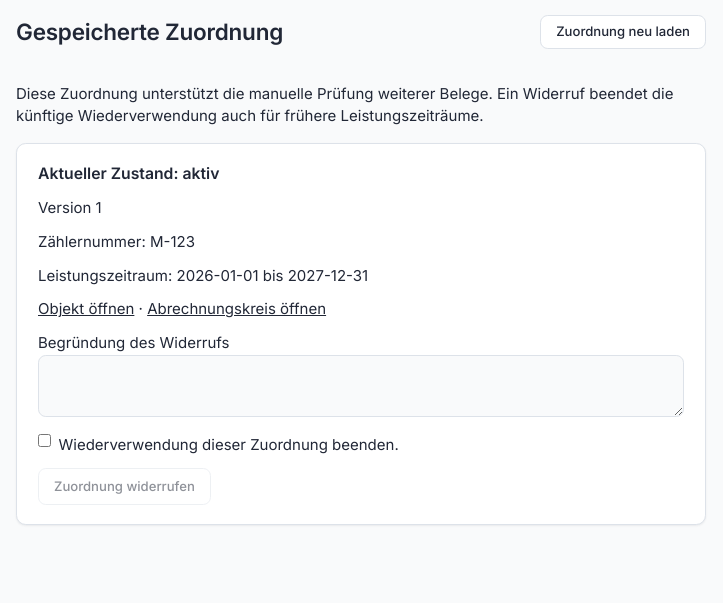
Scenario: keeps unknown revocation pinned after a newer activation and distinguishes receipt from current state
Step 1. Type "Stop future reuse" into the text box labelled "Begründung des Widerrufs" → (361, 386), box [38, 355, 684, 417]
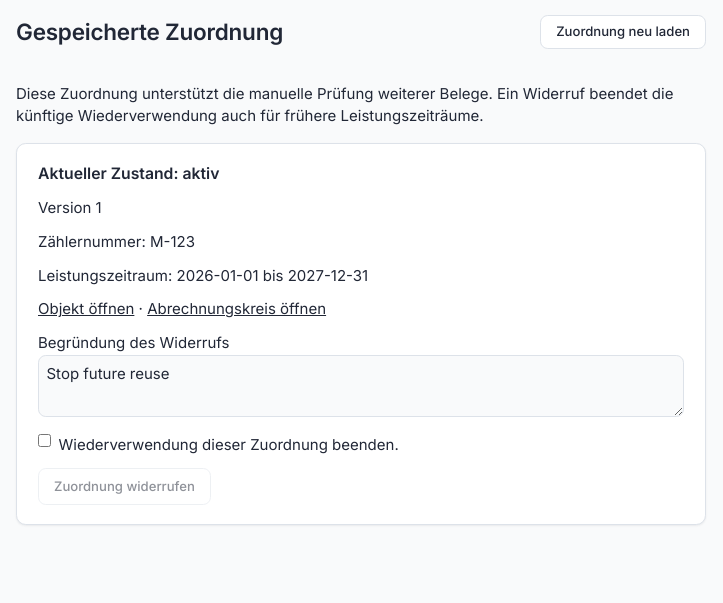
Step 2. Click the checkbox → click(44, 441), box [38, 434, 51, 447]
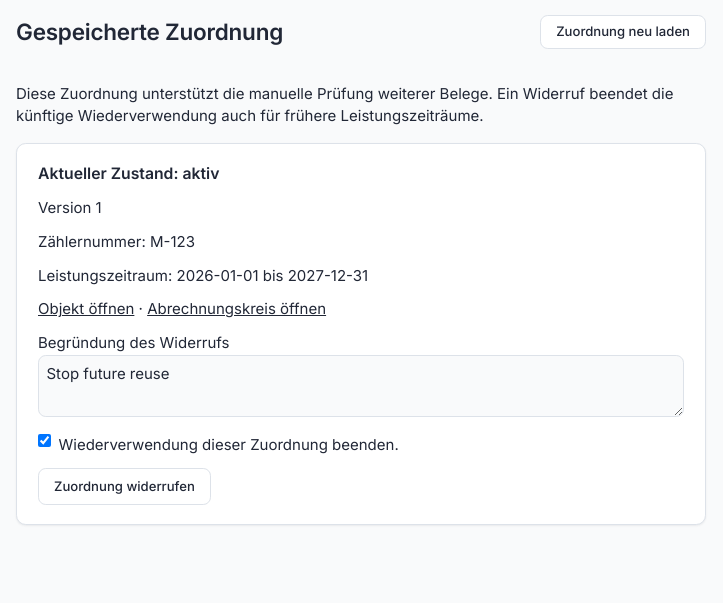
Step 3. Click the button "Zuordnung widerrufen" → click(124, 486), box [38, 468, 211, 505]
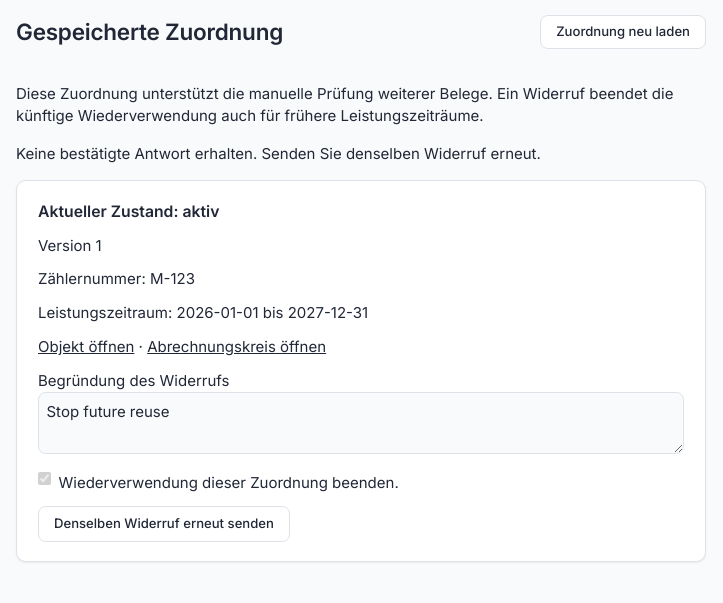
Expected: the text "Keine bestätigte Antwort erhalten. Senden Sie denselben Widerruf erneut." is shown, [16, 144, 541, 162]
Step 4. Click the button "Zuordnung neu laden" → click(623, 32), box [540, 15, 706, 49]
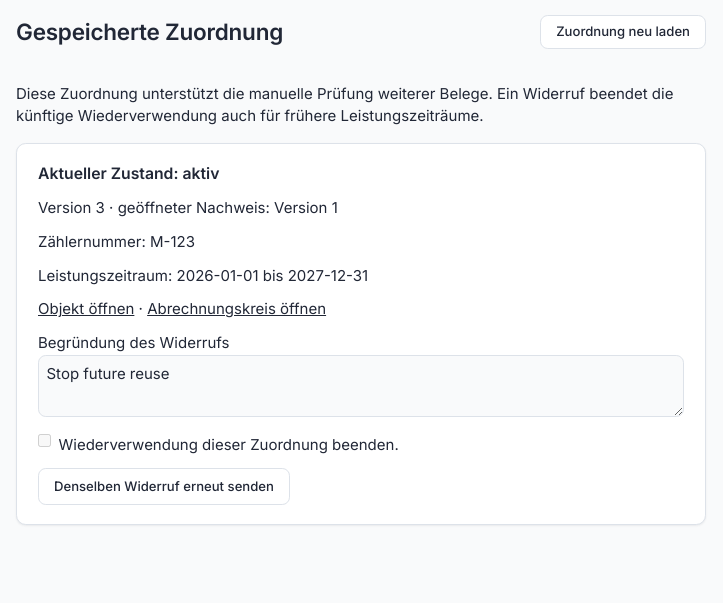
Expected: the button "Denselben Widerruf erneut senden" is enabled
Step 5. Click the button "Denselben Widerruf erneut senden" → click(164, 486), box [38, 468, 290, 505]
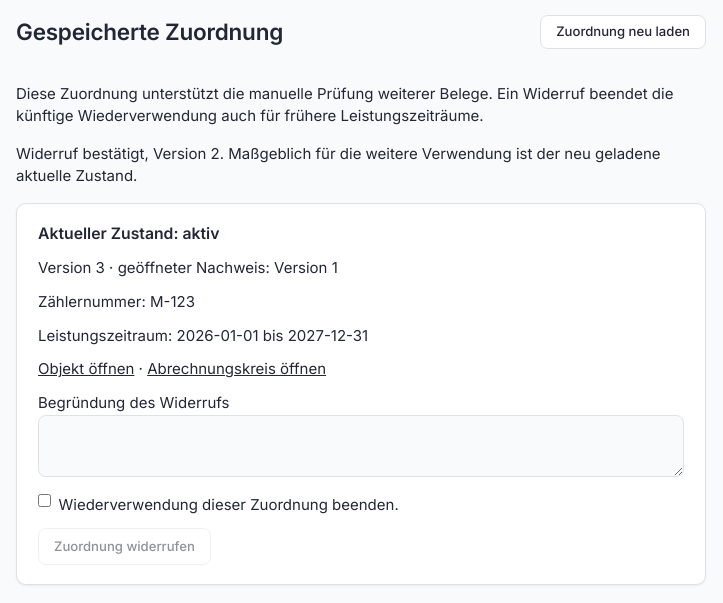
Expected: the heading "Aktueller Zustand: aktiv" is shown, [38, 224, 219, 243]
Expected: the text "Widerruf bestätigt, Version 2" is shown, [16, 142, 706, 188]
